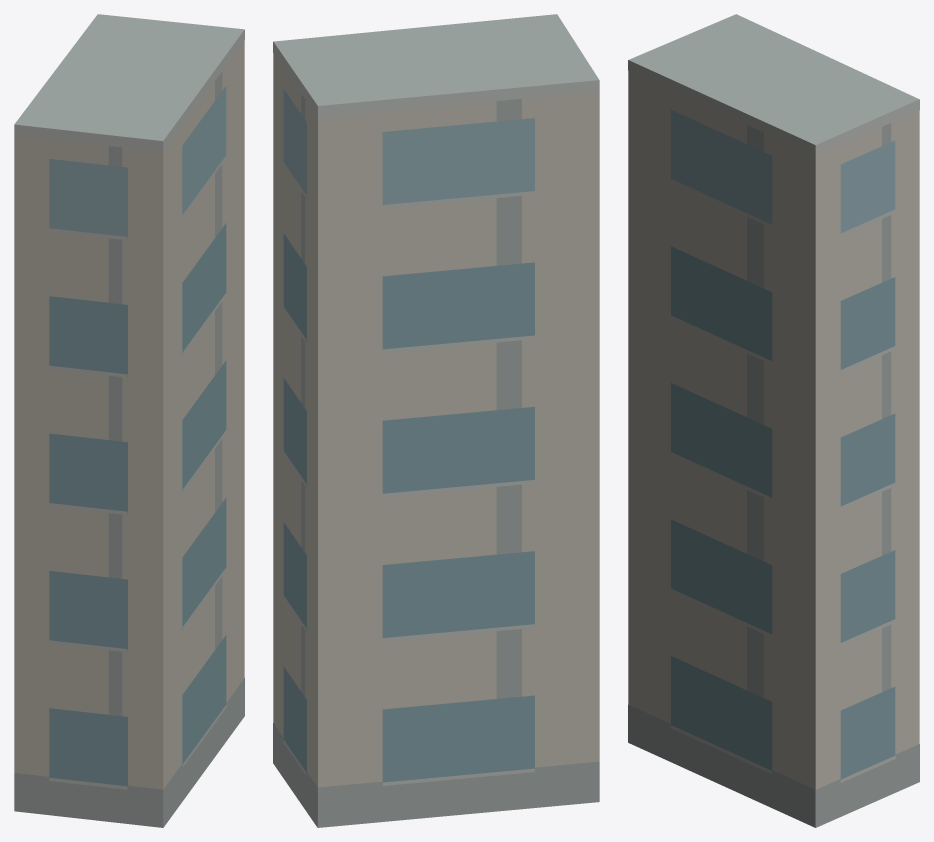
File: survey-upis-32783497.glb
3 views of the same model, side by side, from view 1: azimuth 30°, elevation 25°; view 2: azimuth 150°, elevation 25°; view 3: azimuth 270°, elevation 25° (orthographic). The views are drawn at different scales.
Parts seen in each view (by area): view 1: survey-upis-32783497.tmp; view 2: survey-upis-32783497.tmp; view 3: survey-upis-32783497.tmp.
Boxes of the visible parts, x1,y1,x2,y2 form: survey-upis-32783497.tmp: (14, 14, 244, 827); survey-upis-32783497.tmp: (273, 14, 599, 827); survey-upis-32783497.tmp: (628, 14, 919, 827).
Size of the model in its own units: 6.29 by 15.25 by 5.91.
